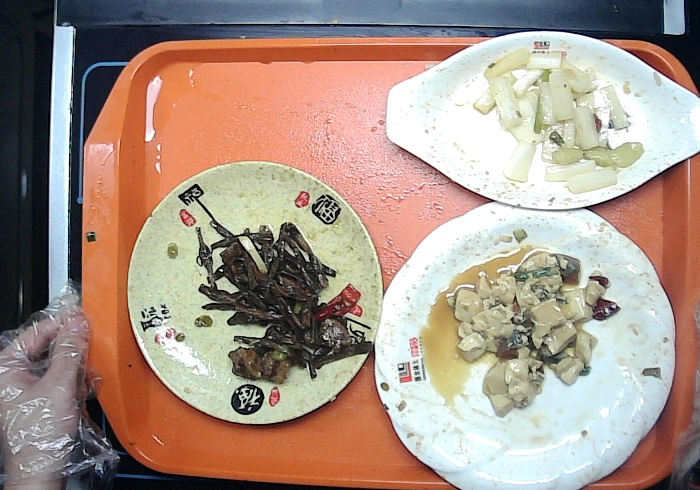NLDX-Bai_Zhe_Yuan_Pan: (370, 186, 679, 488)
NLDX-Fu_Zi_Yuan_Pan: (122, 158, 385, 429)
NLDX-Yu_Pan: (380, 27, 700, 213)
